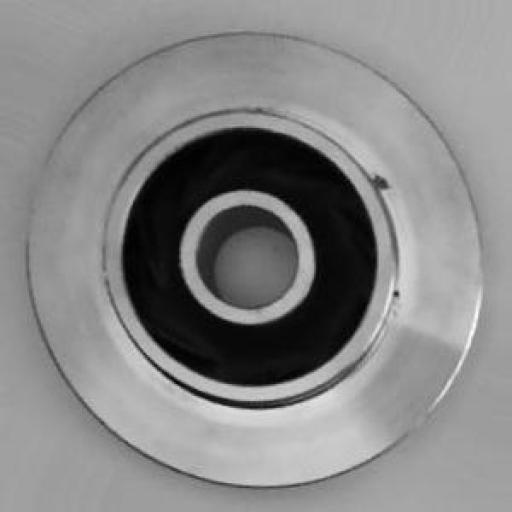defect: (332, 139, 425, 233)
